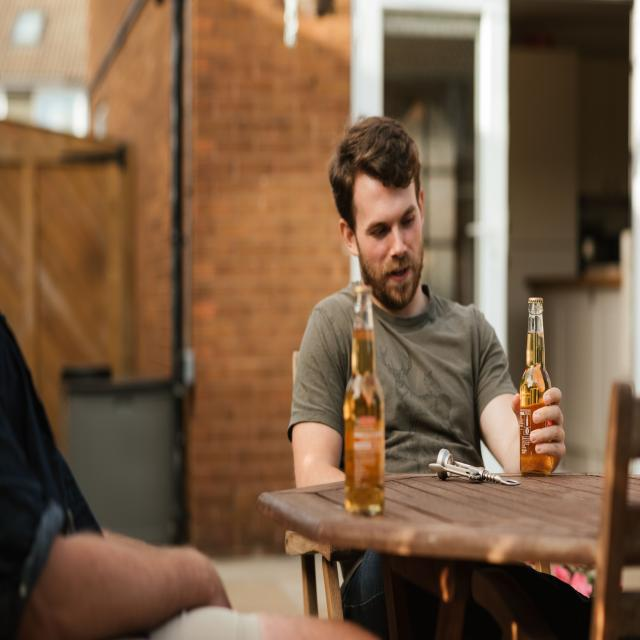Bottle: (344, 285, 385, 515), (520, 298, 552, 475)
